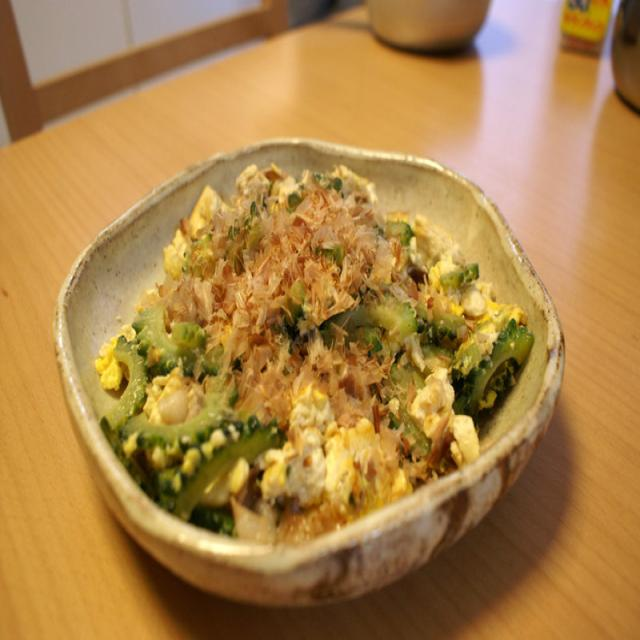熟制海鲜: (48, 125, 563, 605)
